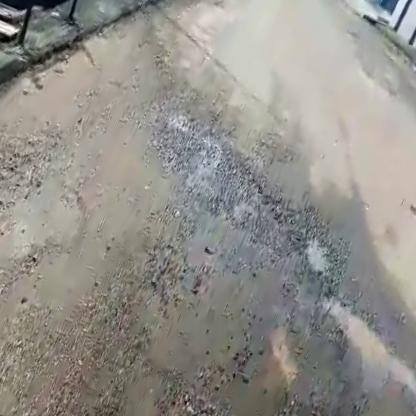pothole: (288, 223, 345, 285)
